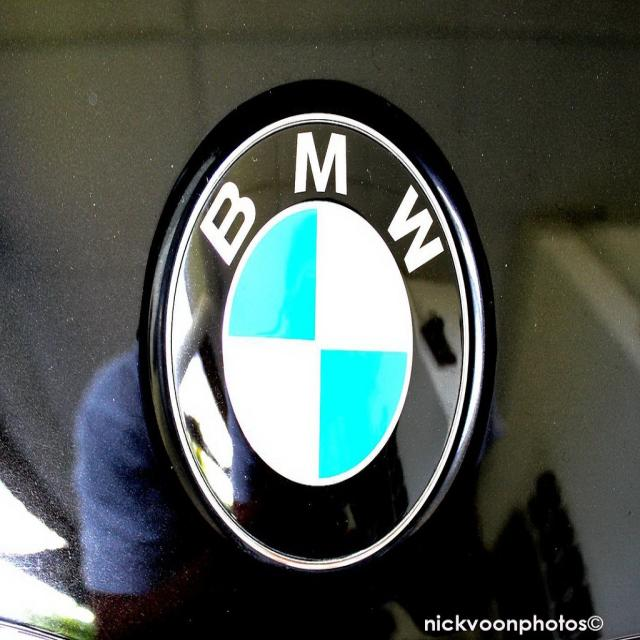bmw: (153, 101, 478, 583)
